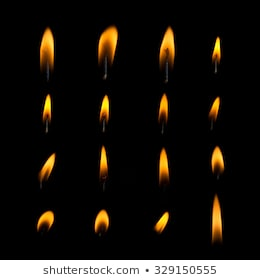Fire: (95, 22, 119, 63), (37, 26, 57, 68), (156, 24, 175, 67), (209, 195, 225, 242), (93, 206, 114, 234), (154, 148, 171, 181), (152, 205, 169, 237), (38, 151, 57, 179), (155, 92, 170, 125), (210, 145, 225, 176), (33, 211, 56, 231), (97, 146, 110, 177), (39, 95, 54, 121), (209, 32, 221, 64), (209, 94, 221, 120), (99, 95, 110, 121)
